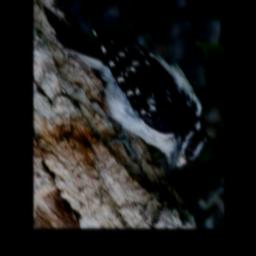Woodpecker: (40, 8, 211, 180)
